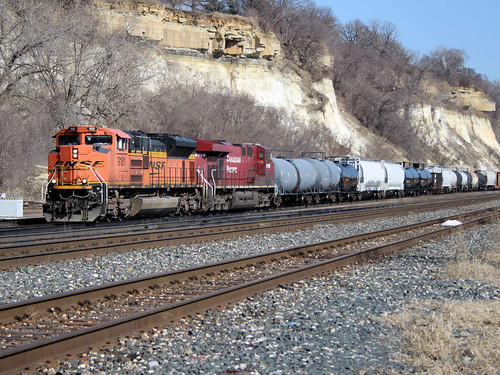train: (44, 153, 500, 219)
train track: (1, 193, 495, 375)
